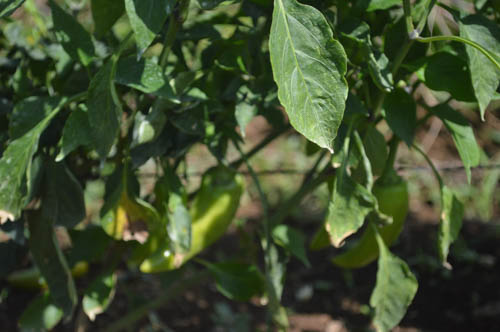ChiliPepper: (137, 182, 244, 279), (329, 190, 412, 278)
